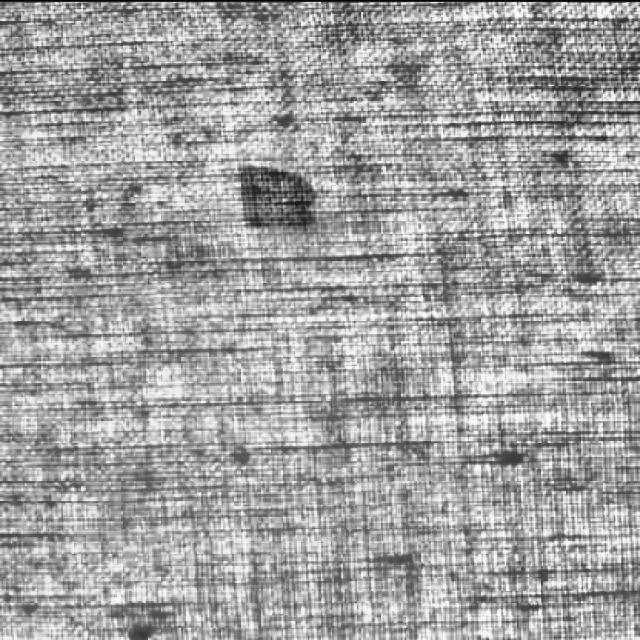oil_spot: (226, 153, 323, 233)
